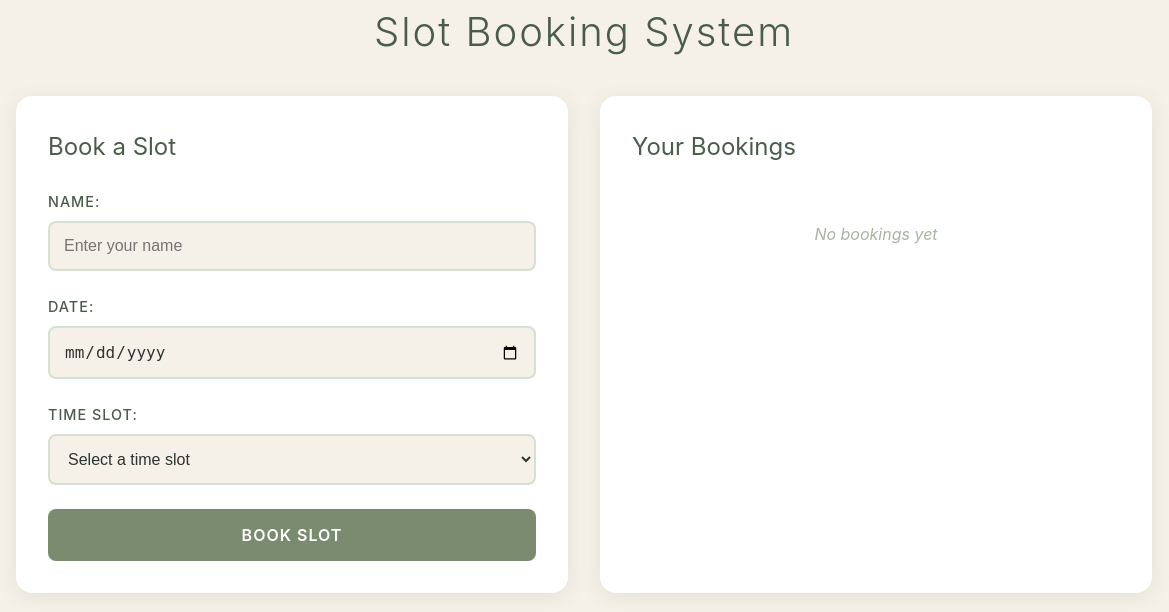
Scenario: Slot Booking System › allows canceling a booking
Type "Cancel Test" into the field with placeholder "Enter your name" at x=292, y=246, box [48,221,536,271]
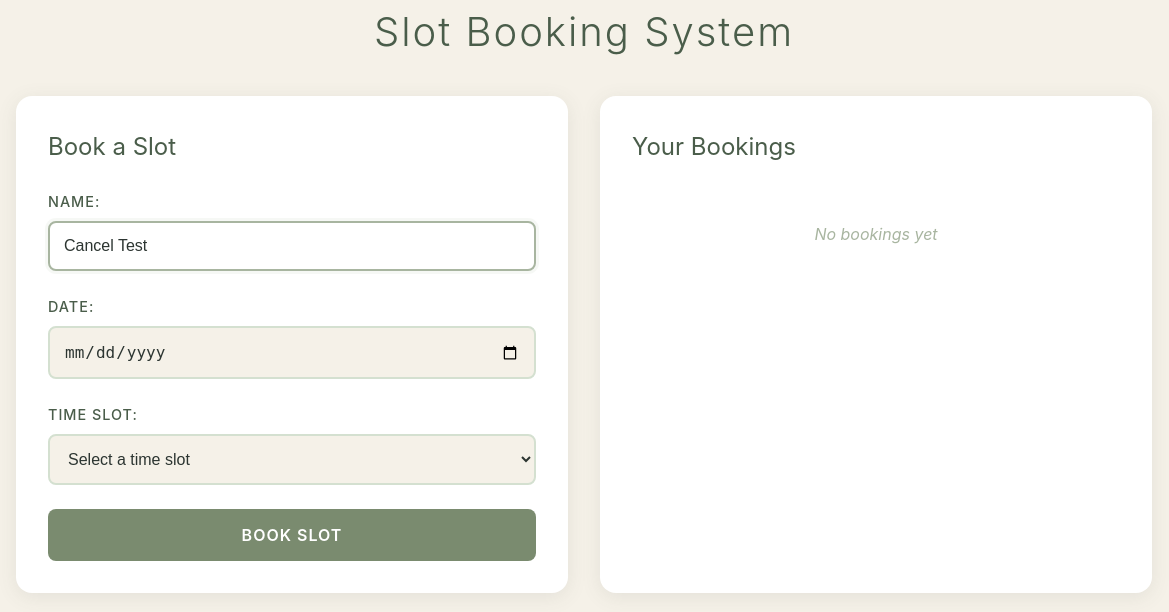
Type "2025-12-25" into the date field labelled "Date:" at x=292, y=353, box [48,326,536,379]
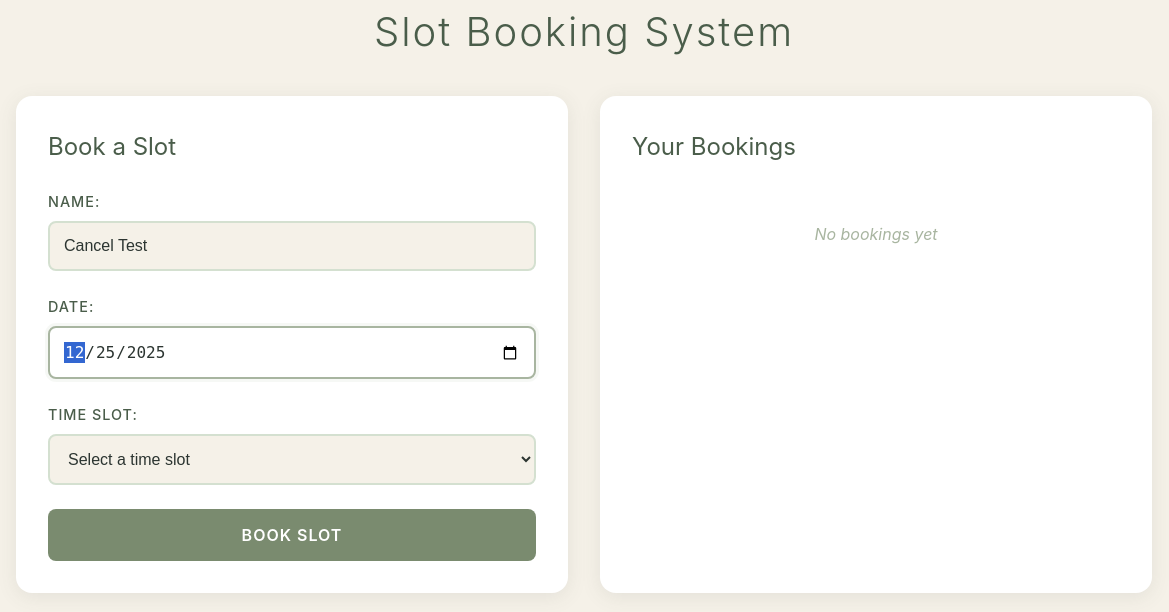
Select "03:00 PM" in the dropdown labelled "Time Slot:" at x=292, y=460, box [48,434,536,485]
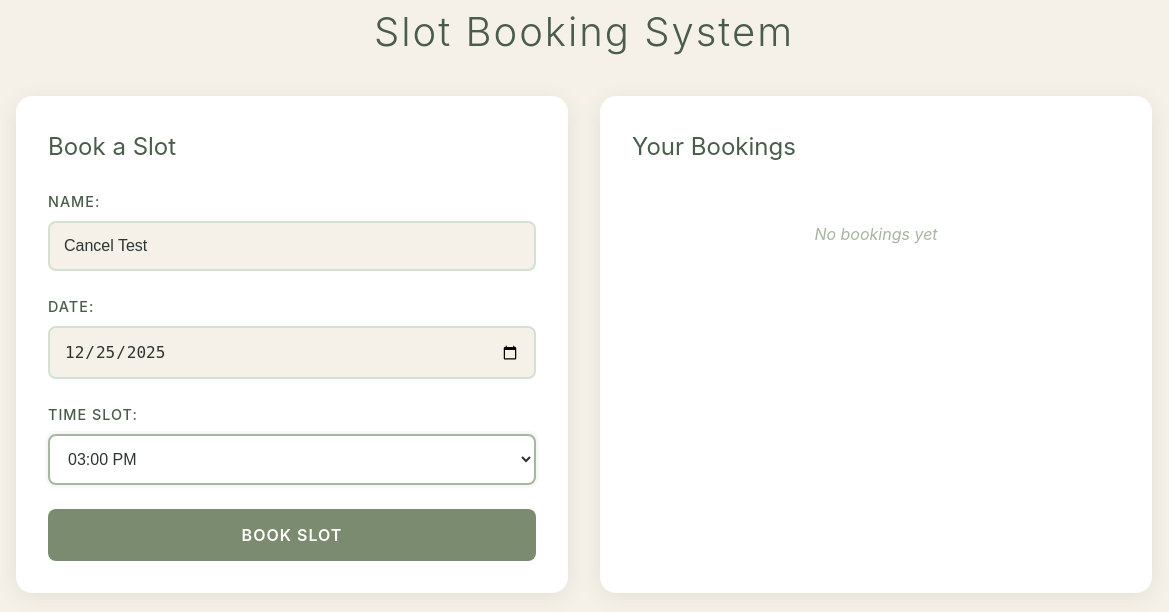
Click the button "Book Slot" at x=292, y=535, box [48,509,536,561]
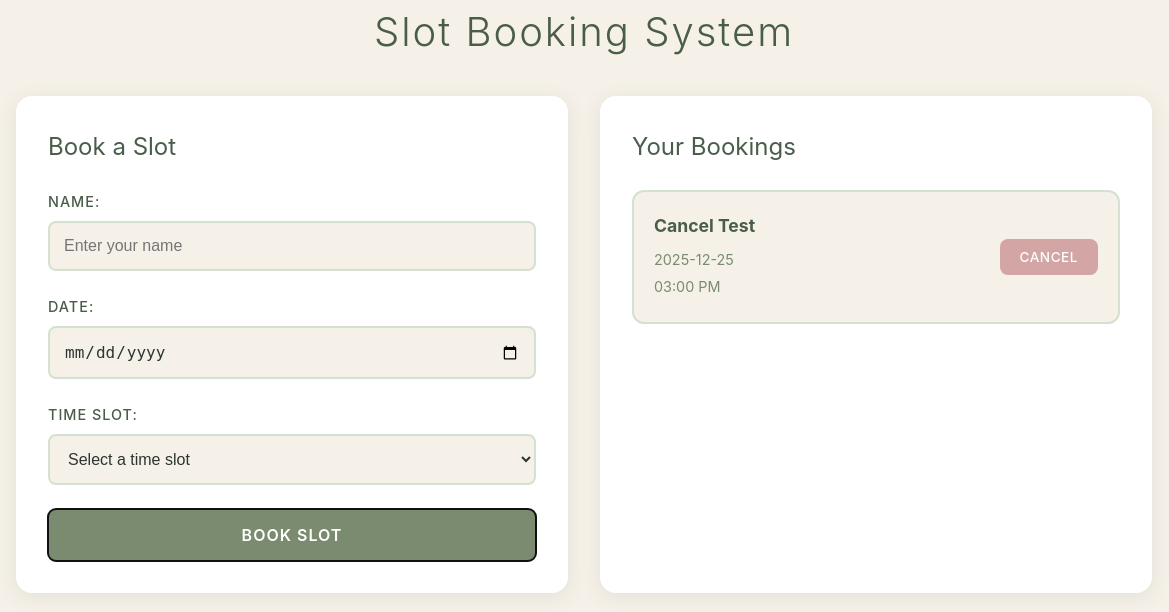
Expected: the text "Cancel Test" is shown, [654,212,755,240]
Click the button "Cancel" at x=1049, y=257, box [1000,239,1098,275]
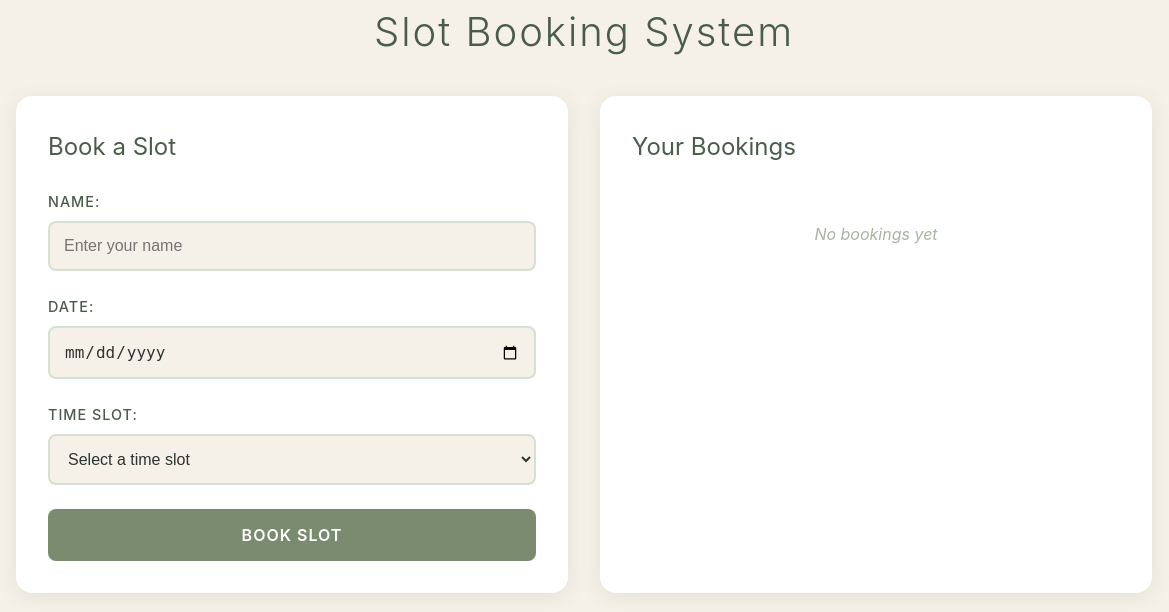
Expected: the text "Cancel Test" is gone
Expected: the text "No bookings yet" is shown, [814,224,938,244]
